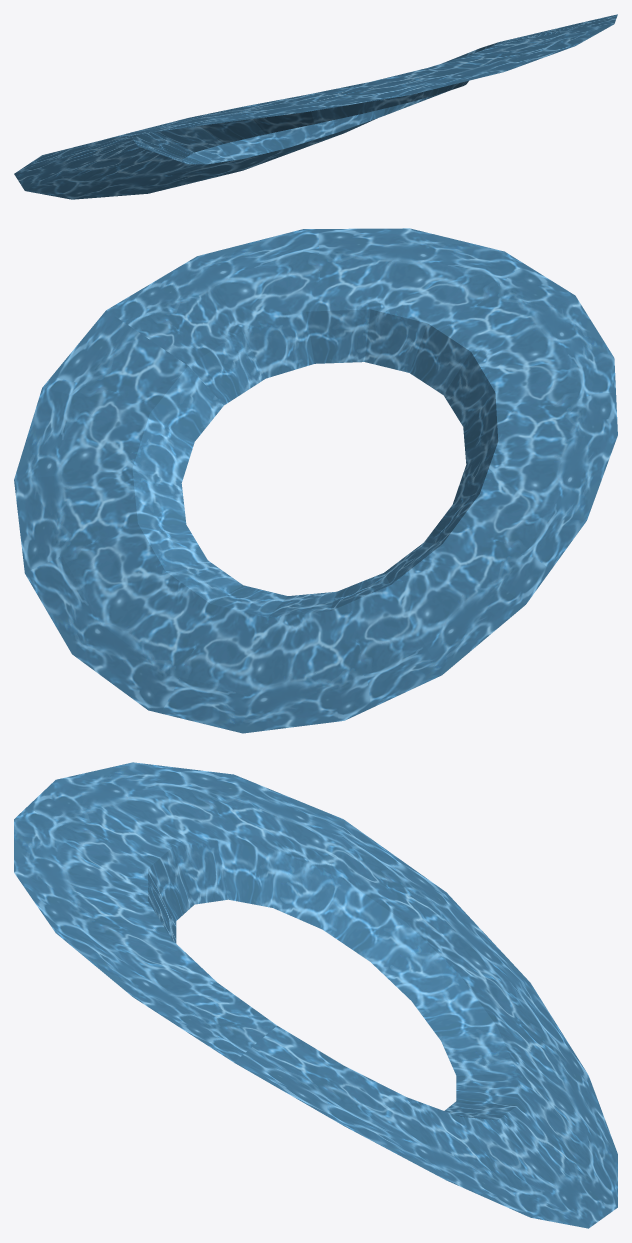
The model's file is Chapter5Model3Water01.FBX.
3 views of the same model, one above another, from view 1: azimuth 30°, elevation 25°; view 2: azimuth 150°, elevation 25°; view 3: azimuth 270°, elevation 25° (orthographic). The views are drawn at different scales.
Visible parts, largest first — view 1: Chapter5Model3Water01; view 2: Chapter5Model3Water01; view 3: Chapter5Model3Water01.
Boxes of the visible parts, bbox=[...] form: Chapter5Model3Water01: bbox=[14, 14, 617, 199]; Chapter5Model3Water01: bbox=[14, 228, 617, 733]; Chapter5Model3Water01: bbox=[14, 762, 617, 1228].
Bounding box in the file's own units: 332 × 169 × 277.
1 material, 1 textured.
